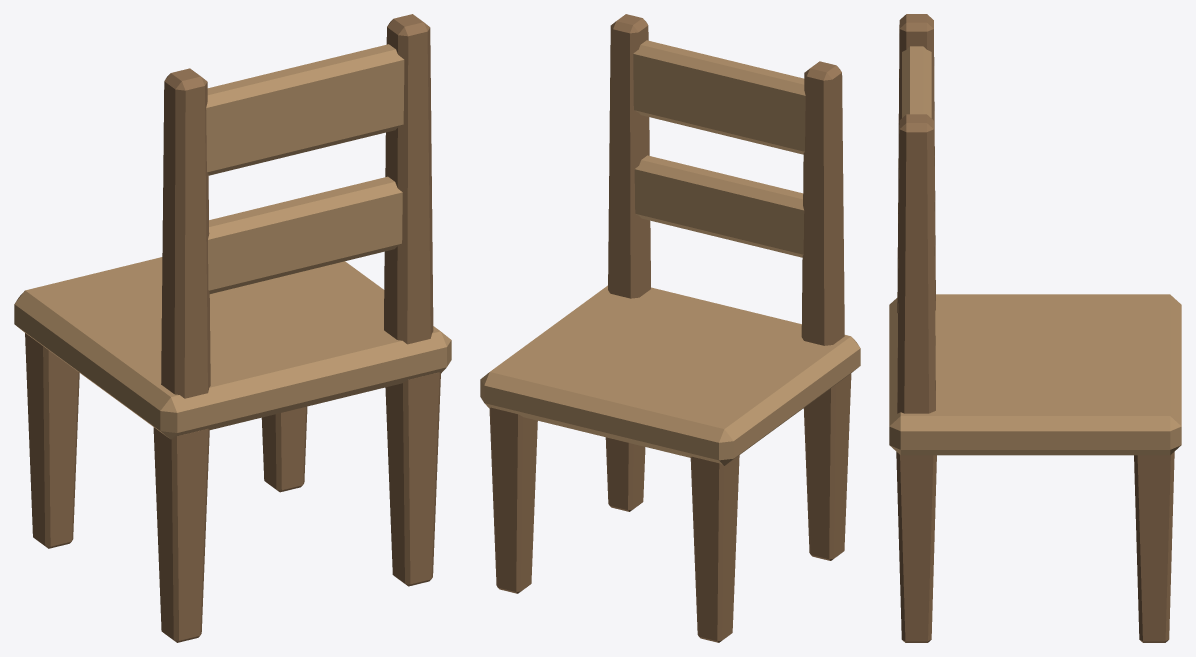
Rendered from BUILD0028_WoodenDiningChair.fbx.
3 views of the same model, side by side, from view 1: azimuth 30°, elevation 25°; view 2: azimuth 150°, elevation 25°; view 3: azimuth 270°, elevation 25° (orthographic). The views are drawn at different scales.
Visible parts, largest first — view 1: BUILD0028_WoodenDiningChair; view 2: BUILD0028_WoodenDiningChair; view 3: BUILD0028_WoodenDiningChair.
Boxes of the visible parts, <box> form: BUILD0028_WoodenDiningChair: <box>14,14,451,642</box>; BUILD0028_WoodenDiningChair: <box>480,14,860,642</box>; BUILD0028_WoodenDiningChair: <box>889,14,1181,642</box>.
Bounding box in the file's own units: 0.68 × 1.25 × 0.64.
